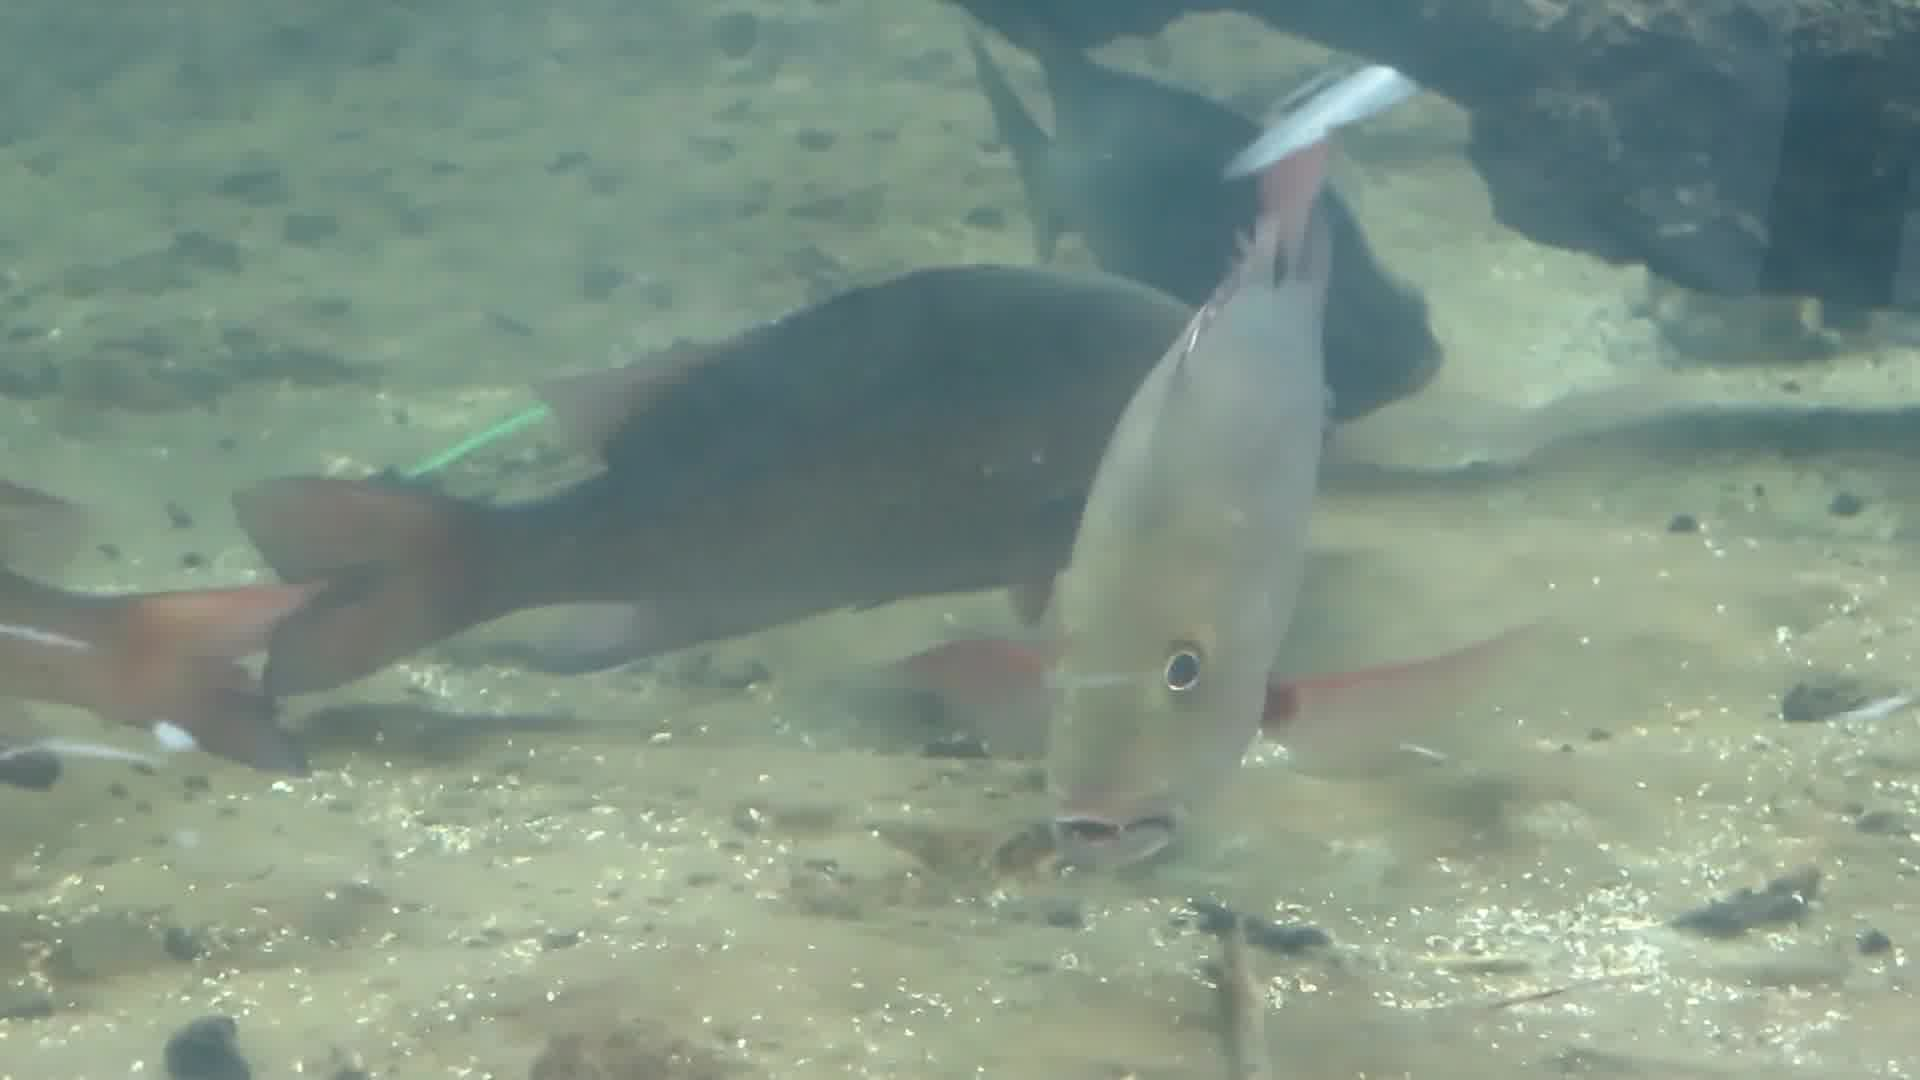Lutjanus argentimaculatus: (1051, 185, 1352, 887)
